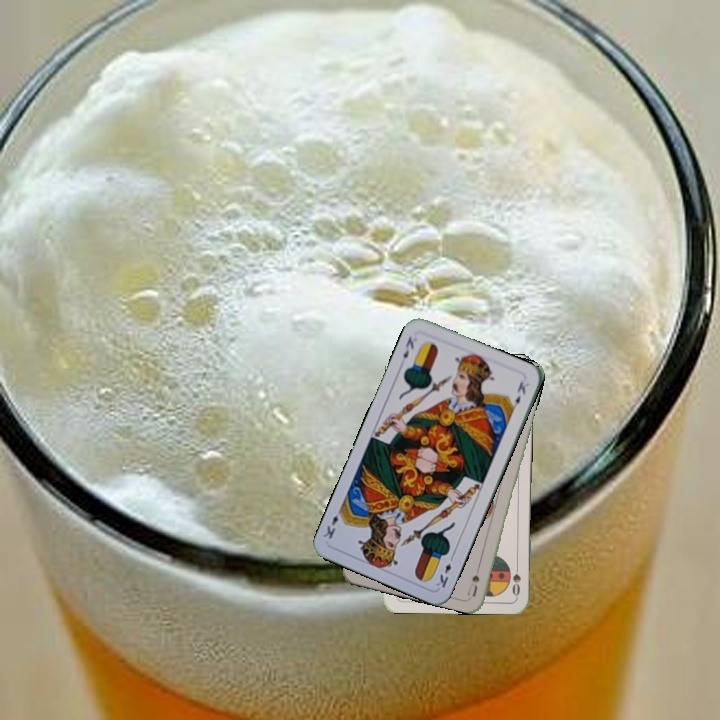EK: (432, 551, 456, 591), (399, 332, 416, 361)
SO: (508, 558, 523, 598)
SU: (464, 558, 484, 598)
